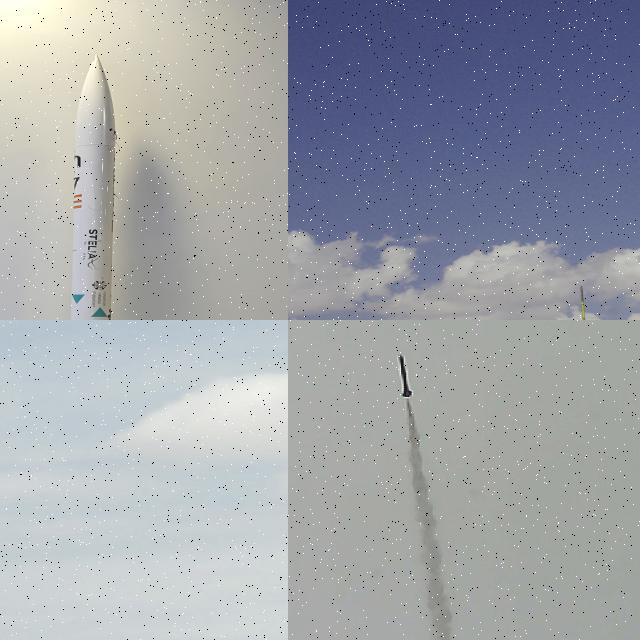Rocket: (71, 54, 116, 320), (398, 353, 413, 398), (579, 284, 589, 320)
